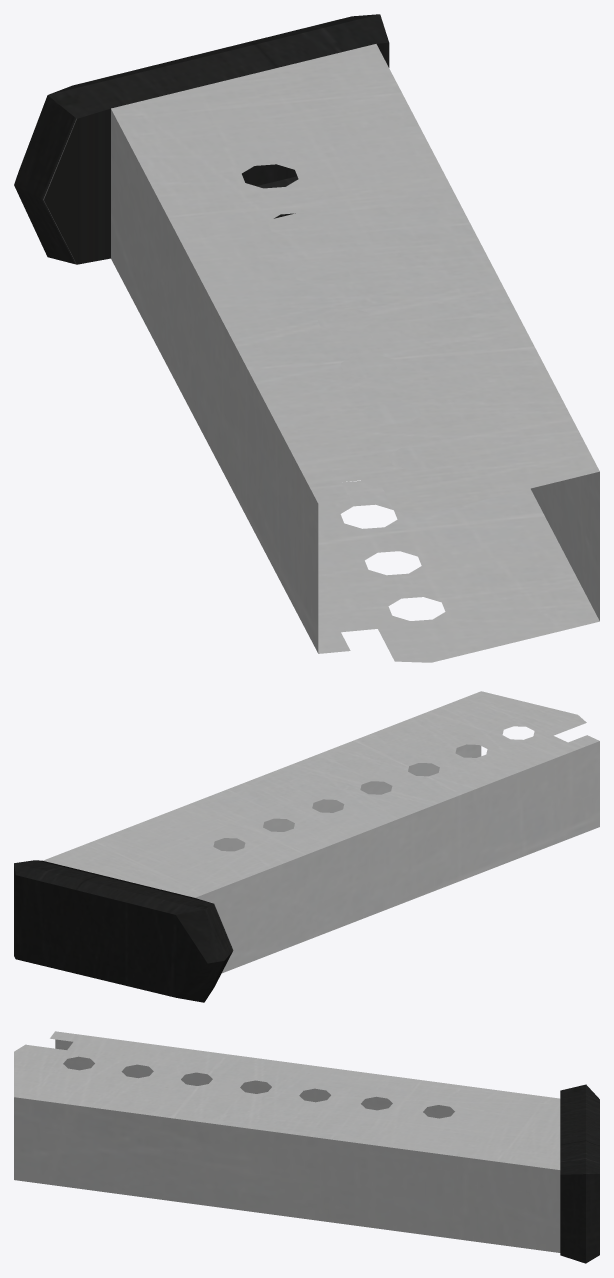
File: pistol-mag.fbx
3 renders of one model, top to bottom at view 1: azimuth 30°, elevation 25°; view 2: azimuth 150°, elevation 25°; view 3: azimuth 270°, elevation 25°, orthographic. The views are drawn at different scales.
Parts seen in each view (by area): view 1: P220; view 2: P220; view 3: P220.
Boxes of the visible parts, x1=… form: P220: x1=14, y1=14, x2=599, y2=662; P220: x1=14, y1=691, x2=599, y2=1002; P220: x1=14, y1=1031, x2=599, y2=1263.
Bounding box in the file's own units: 0.1662 × 0.0475 × 0.2816.
1 material, 1 textured.
